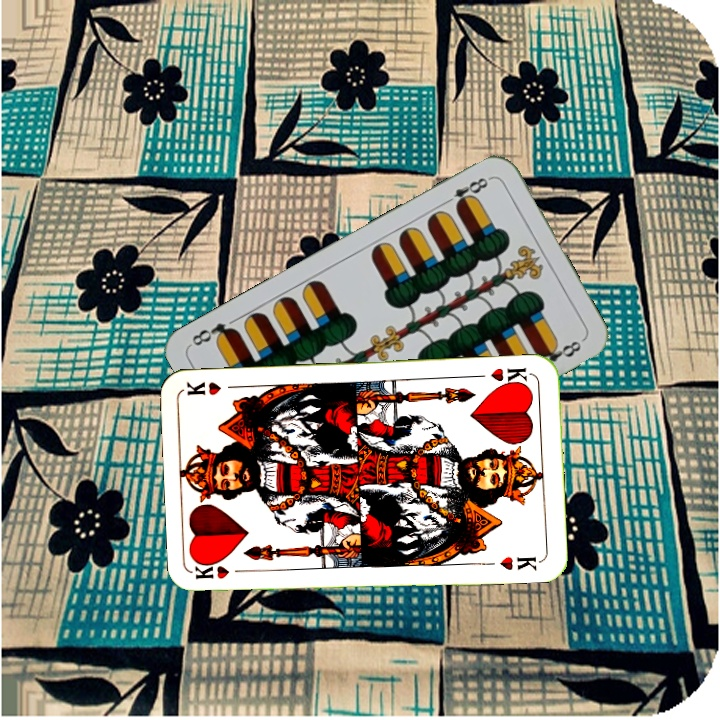E8: (440, 173, 494, 212)
HK: (486, 363, 533, 390), (192, 561, 252, 582)
